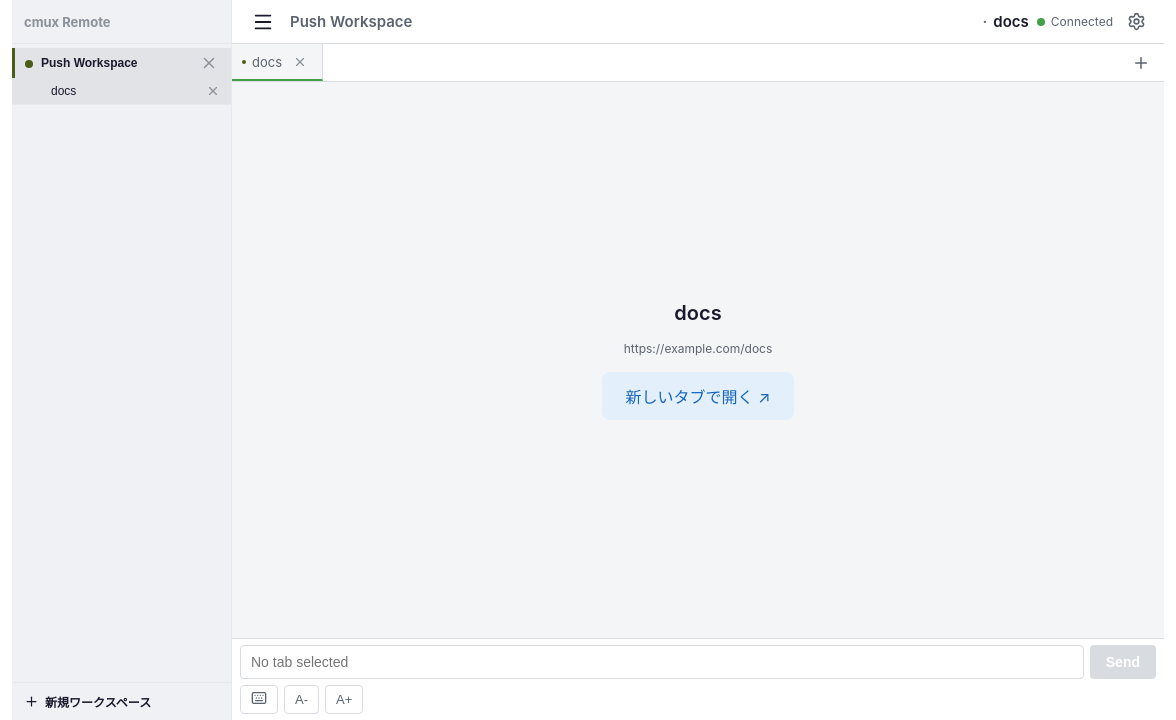
Test: App 結合 — タブ作成と browser 分岐 › P8 の誤配置は browser を残して警告し surface.close で rollback しない
The width and height of the screenshot is (1176, 720).
expect the link "新しいタブで開く ↗" is shown: met, box [602,372,794,420]
Click the button named "New tab": (1141, 62) [1118,44,1164,81]
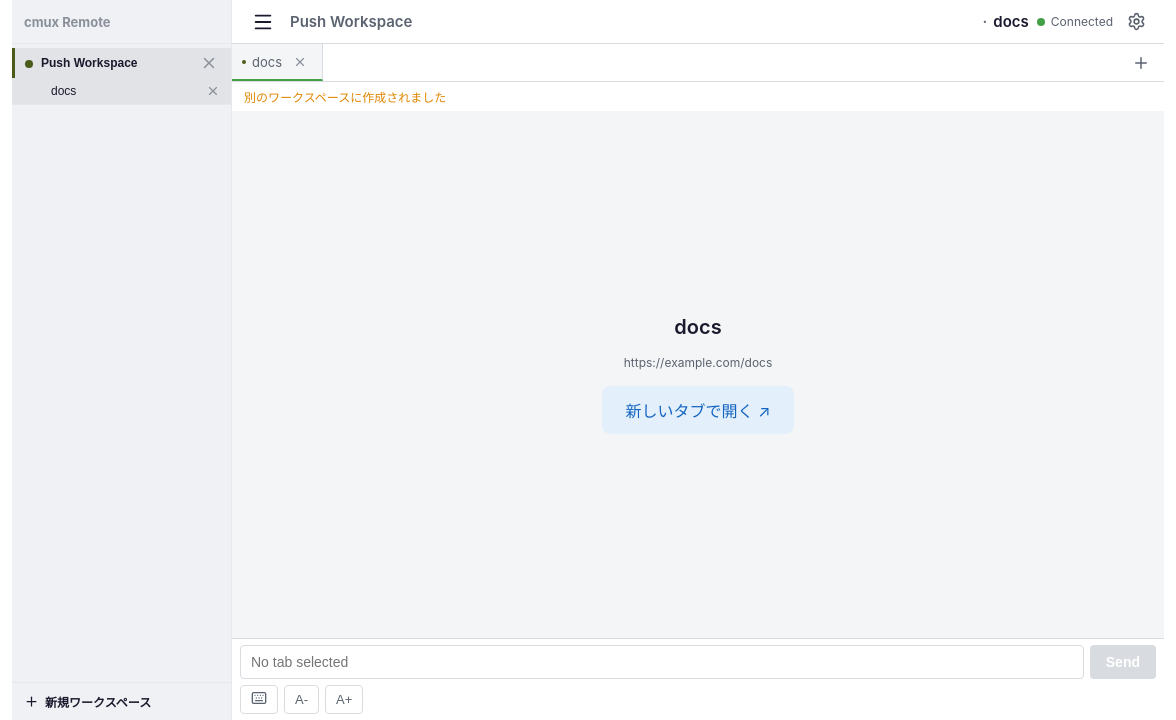
expect the link "新しいタブで開く ↗" is shown: met, box [602,386,794,434]
expect the text "別のワークスペースに作成されました" is shown: met, box [232,82,1164,111]
